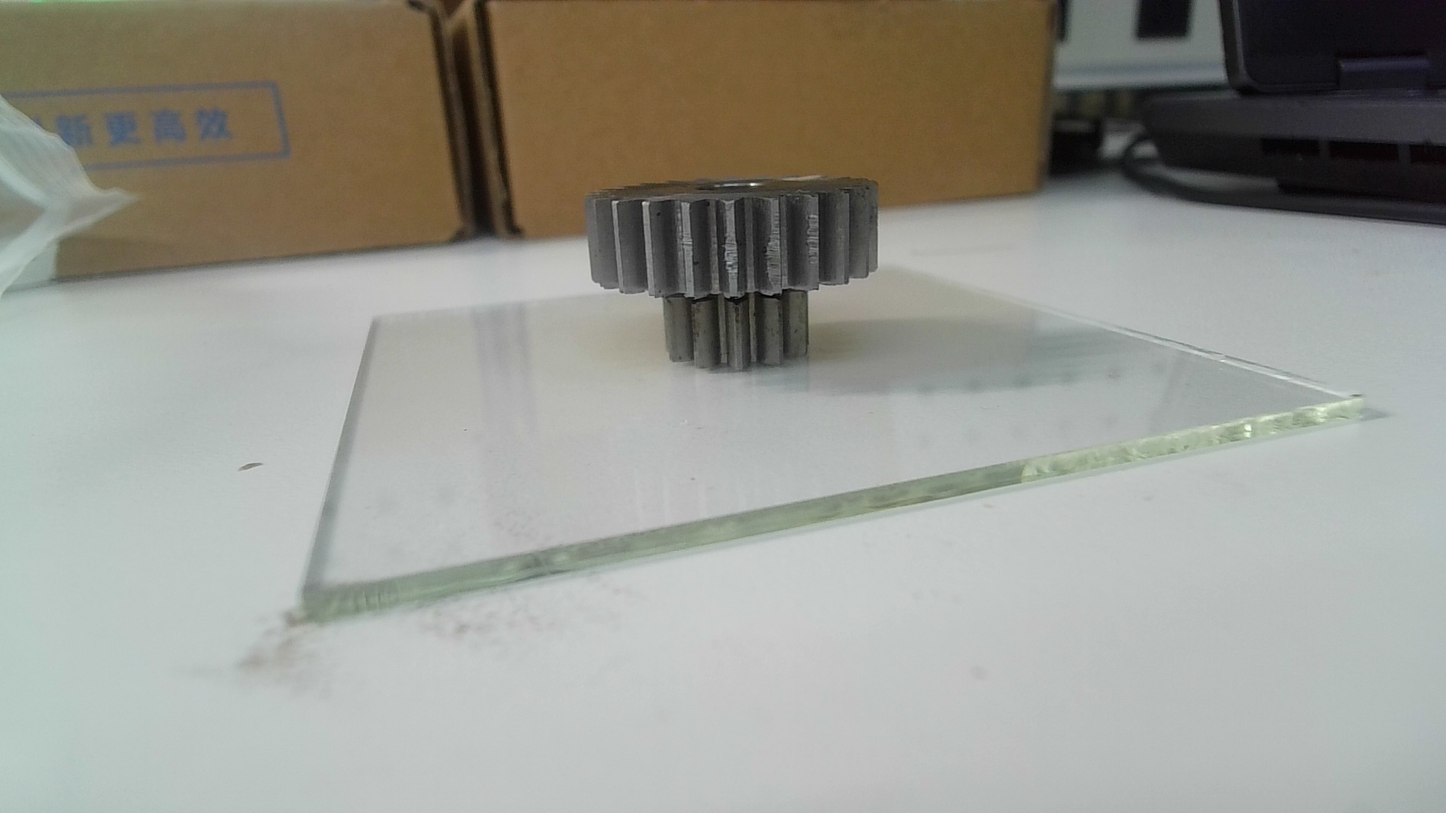gear: (582, 171, 889, 377)
